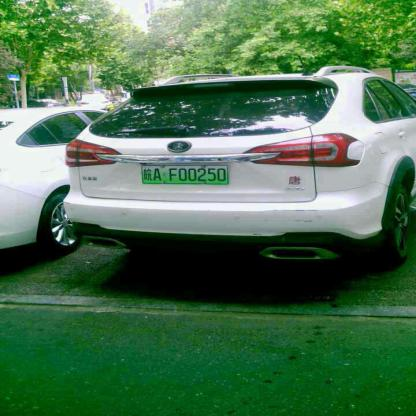lp: (140, 164, 228, 186)
